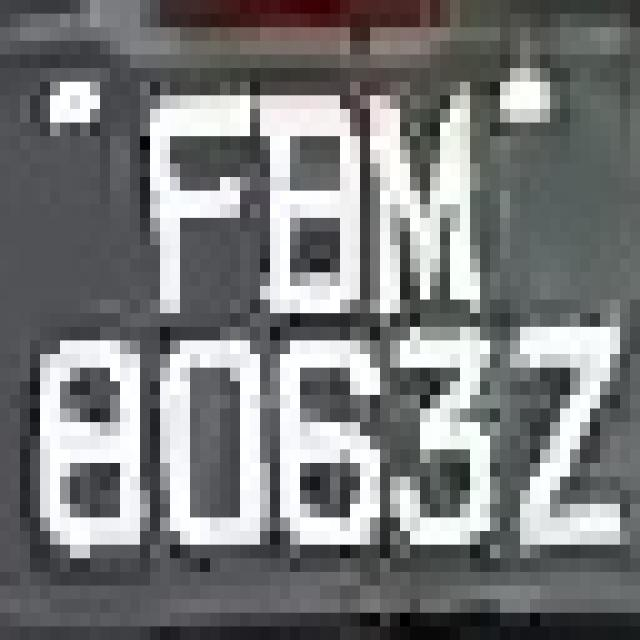0: (140, 299, 260, 572)
3: (360, 300, 500, 586)
6: (260, 299, 390, 572)
8: (20, 313, 160, 586)
B: (230, 55, 370, 354)
F: (130, 55, 250, 313)
M: (340, 68, 490, 341)
Z: (480, 286, 630, 572)
